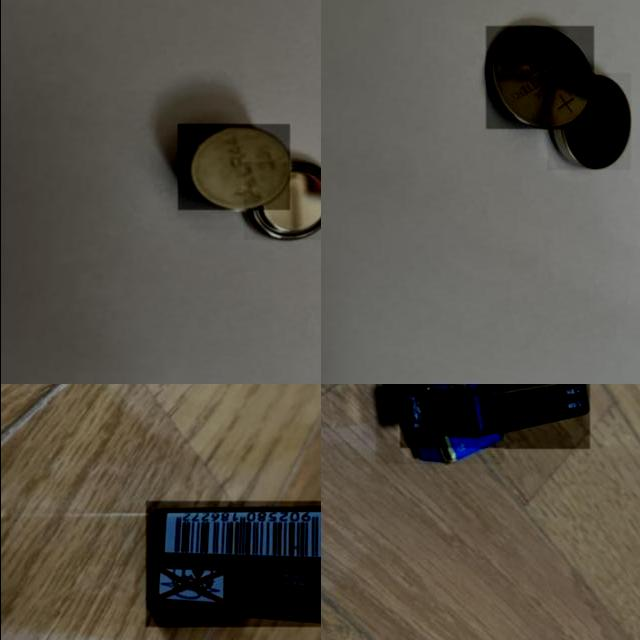9V: (145, 501, 320, 626), (399, 384, 589, 449), (375, 384, 504, 464)
